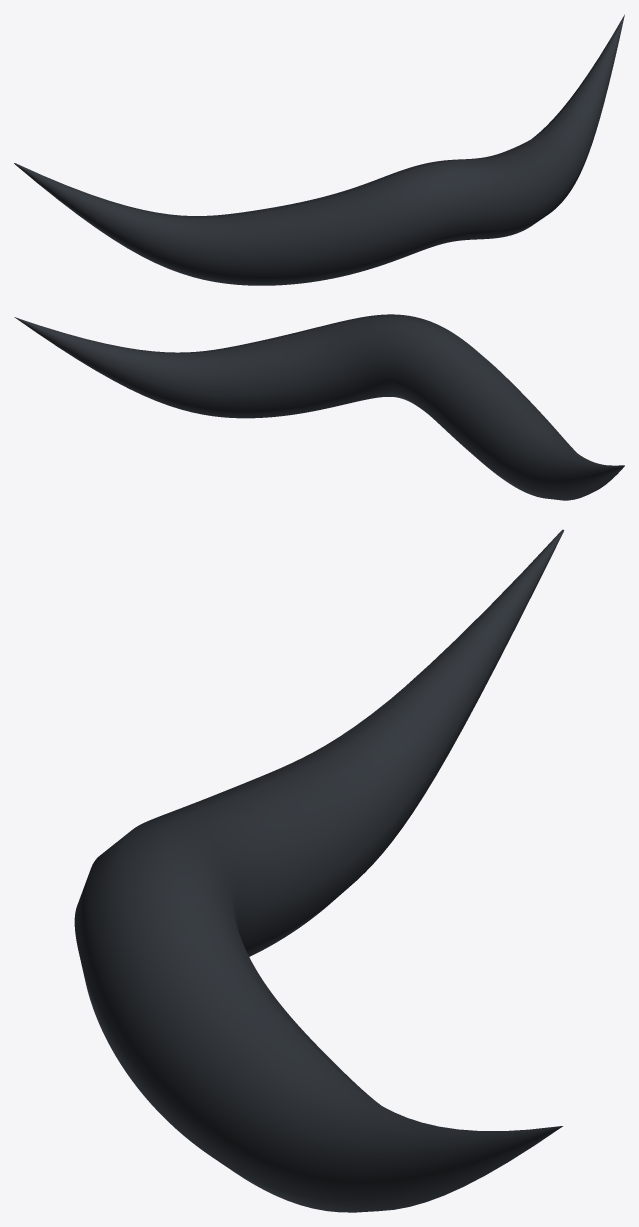
The model's file is Mustache.fbx.
The picture shows the model from 3 angles, top to bottom: view 1: azimuth 30°, elevation 25°; view 2: azimuth 150°, elevation 25°; view 3: azimuth 270°, elevation 25°; orthographic projection. The views are drawn at different scales.
Parts seen in each view (by area): view 1: NurbsPath; view 2: NurbsPath; view 3: NurbsPath.
Boxes of the visible parts, box(x1,y1,x2,y2) form: NurbsPath: box(14, 14, 624, 285); NurbsPath: box(14, 314, 624, 500); NurbsPath: box(74, 529, 564, 1212).
Bounding box in the file's own units: 0.7203 × 0.1239 × 0.25.
1 material, 1 textured.
